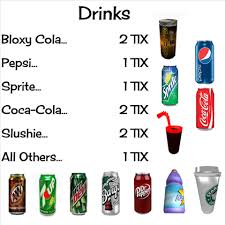coke: (195, 86, 215, 131)
